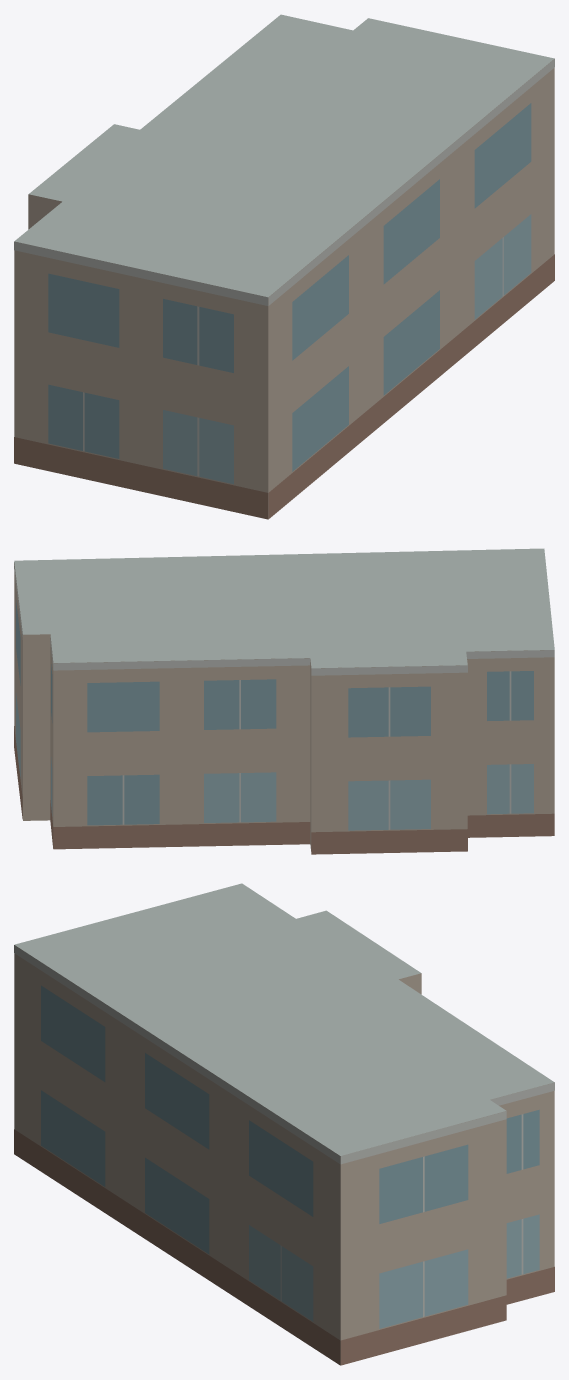
File: survey-upis-32797715.glb
The picture shows the model from 3 angles, top to bottom: view 1: azimuth 30°, elevation 25°; view 2: azimuth 150°, elevation 25°; view 3: azimuth 270°, elevation 25°; orthographic projection. The views are drawn at different scales.
Parts seen in each view (by area): view 1: survey-upis-32797715.tmp; view 2: survey-upis-32797715.tmp; view 3: survey-upis-32797715.tmp.
Part boxes in pixels (x1,y1,x2,y2): survey-upis-32797715.tmp: (14,14,554,519); survey-upis-32797715.tmp: (14,548,554,854); survey-upis-32797715.tmp: (14,883,554,1365).
Bounding box in the file's own units: 17.05 × 6.1 × 14.28.
